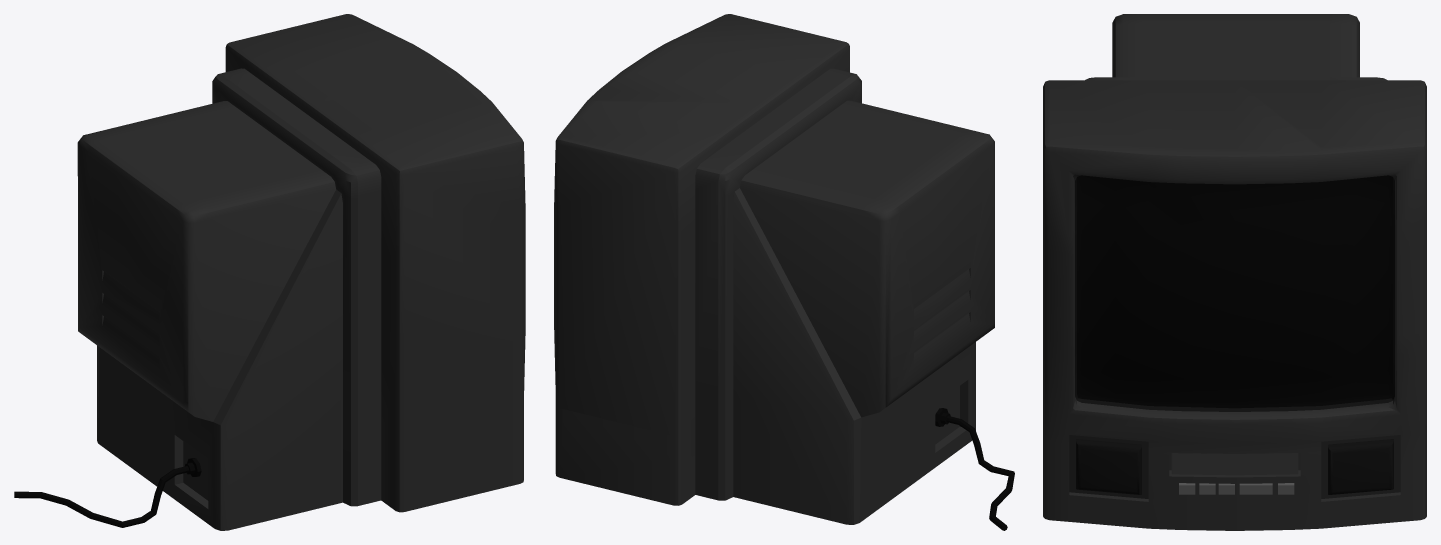
The model's file is tv-crt-07.glb.
3 views of the same model, side by side, from view 1: azimuth 30°, elevation 25°; view 2: azimuth 150°, elevation 25°; view 3: azimuth 270°, elevation 25° (orthographic). The views are drawn at different scales.
Visible parts, largest first — view 1: Mesh_TV_CRT_07; view 2: Mesh_TV_CRT_07; view 3: Mesh_TV_CRT_07.
Boxes of the visible parts, x1,y1,x2,y2 form: Mesh_TV_CRT_07: (14, 14, 525, 530); Mesh_TV_CRT_07: (554, 14, 1014, 530); Mesh_TV_CRT_07: (1043, 14, 1426, 530).
Size of the model in its own units: 0.8304 by 0.6515 by 0.6.
Materials: 1 (1 with a texture image).
